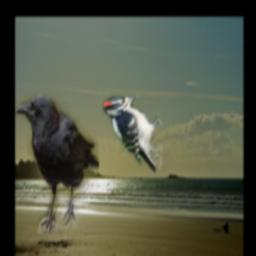Crow: (15, 94, 99, 233)
Woodpecker: (102, 93, 161, 174)
